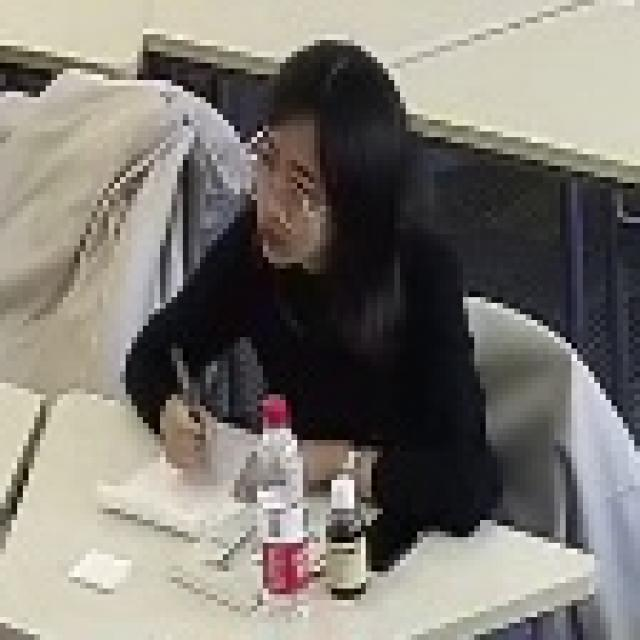write: (119, 33, 524, 562)
